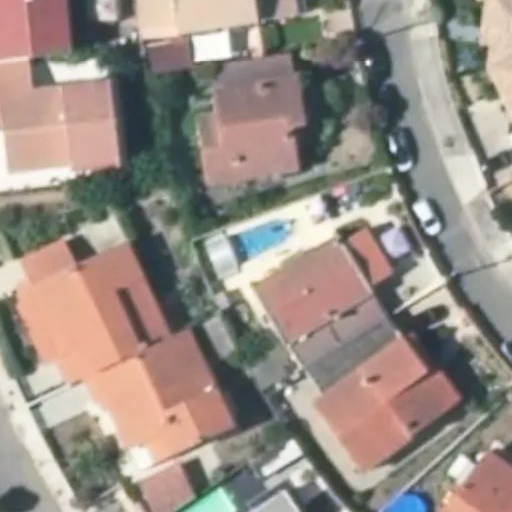pool: (223, 220, 302, 263), (377, 492, 429, 512)
